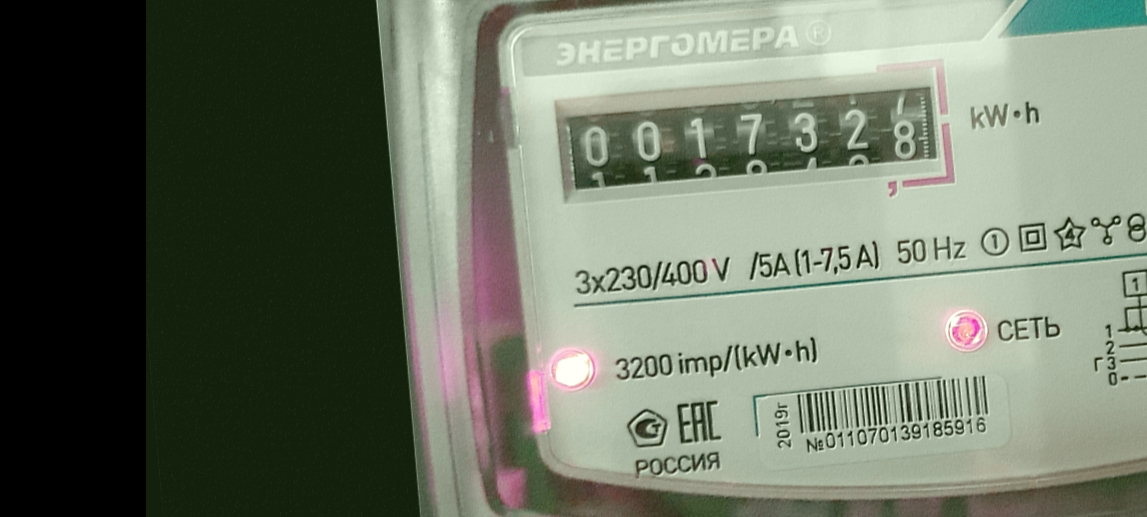0: (579, 123, 615, 170), (633, 116, 665, 164)
1: (687, 113, 712, 161)
2: (840, 106, 872, 153)
3: (791, 109, 821, 155)
7: (737, 110, 767, 159)
8: (890, 117, 919, 162)
screen: (545, 60, 964, 223)
